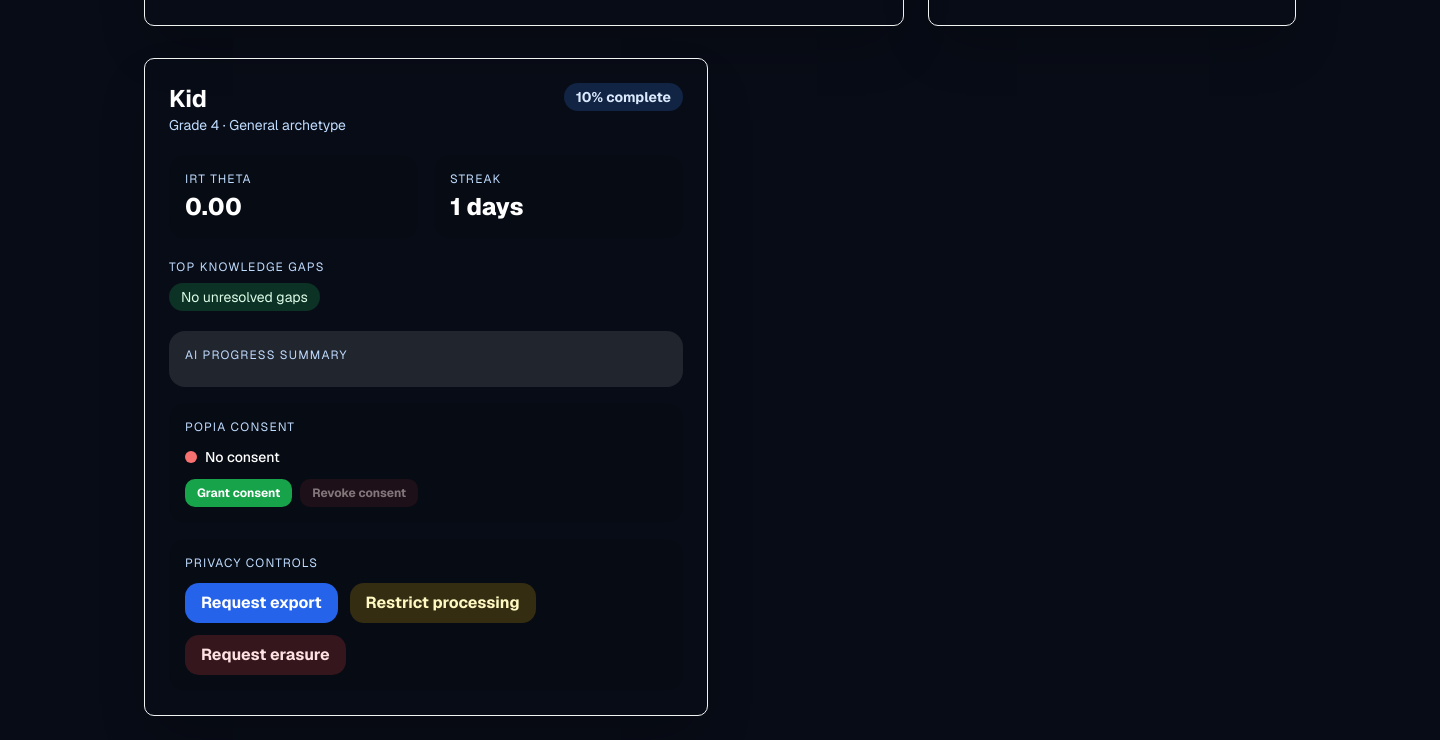
Test: erasure request updates privacy status
(page scrolled)
Click the button "Request erasure" at (265, 654), box 185,634 -> 346,674
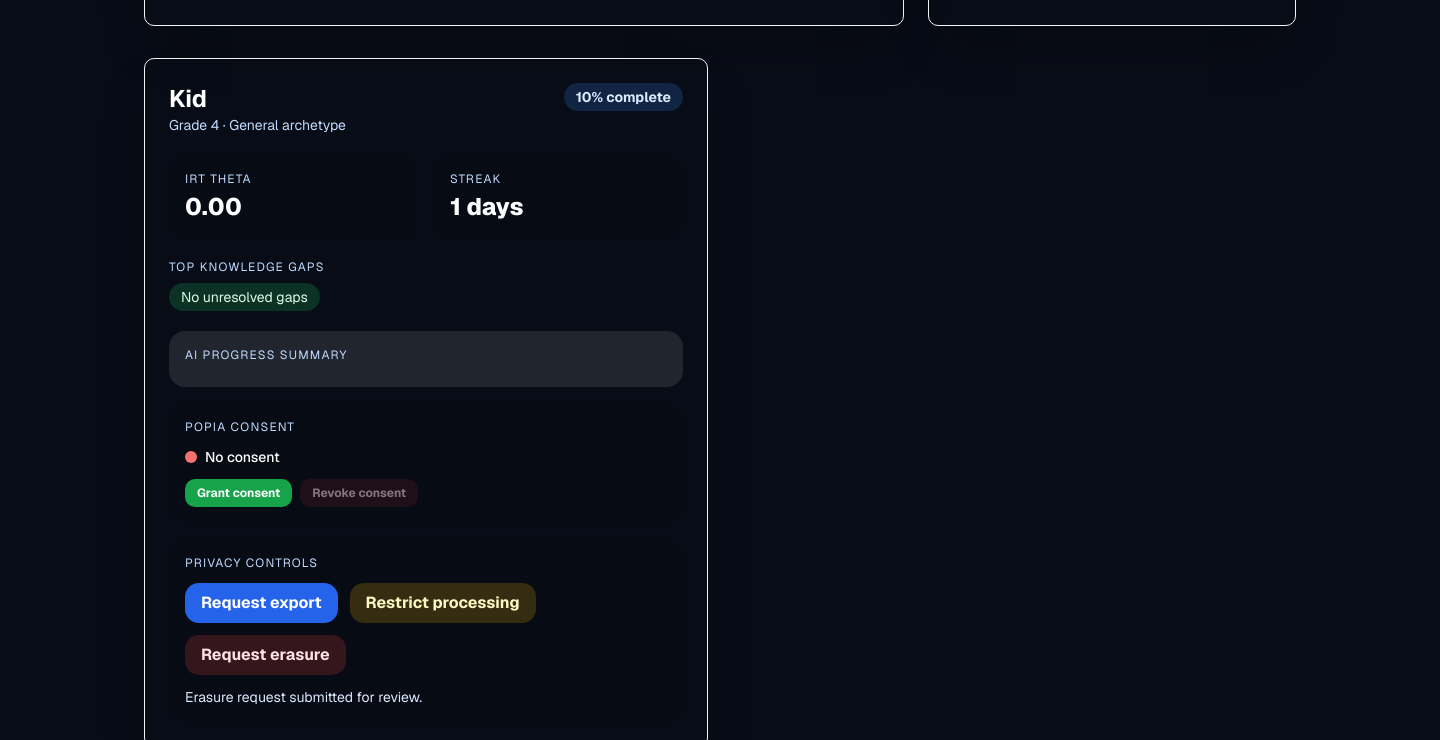
Expected: the text "Erasure request submitted for review." is shown, 185,688 -> 422,706
